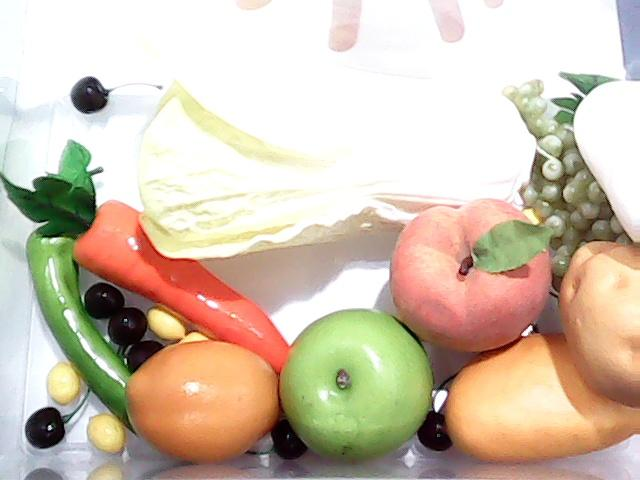apple: (274, 306, 431, 454)
carrot: (0, 139, 292, 373)
grape: (526, 119, 612, 241)
lemon: (121, 335, 297, 473)
mango: (444, 334, 640, 462)
napa cabbage: (139, 46, 541, 257)
peach: (388, 198, 552, 356)
pepper: (25, 157, 197, 447)
potato: (562, 241, 640, 410)
radish: (550, 71, 640, 241)
